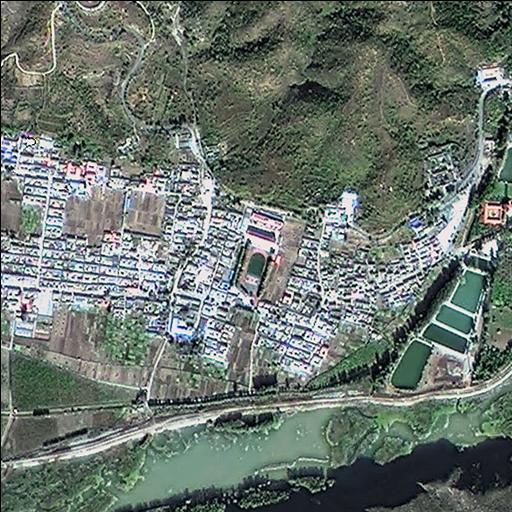school: (230, 206, 285, 301)
